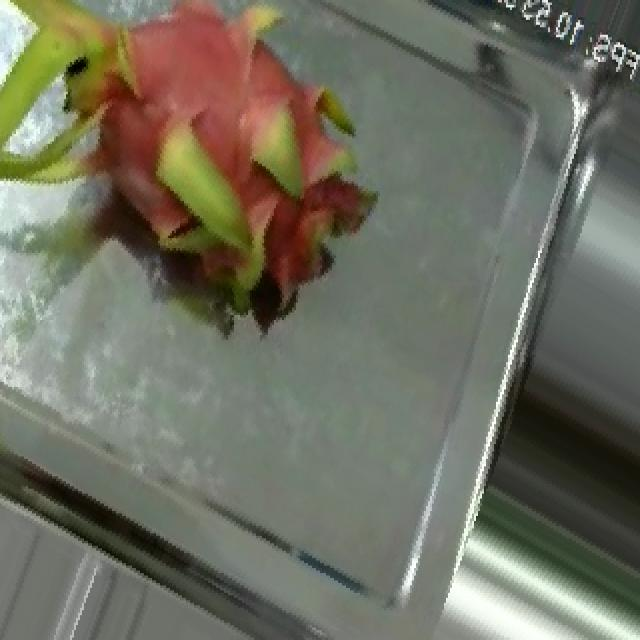fruit: (2, 0, 420, 389)
